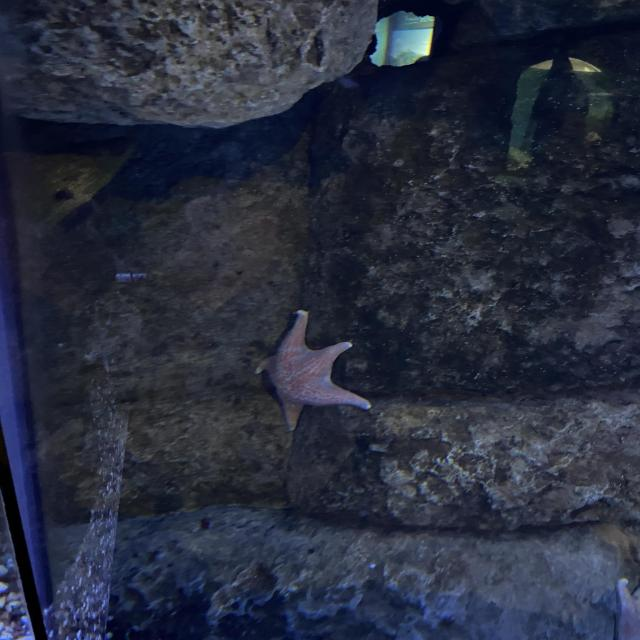starfish: (254, 310, 372, 430)
